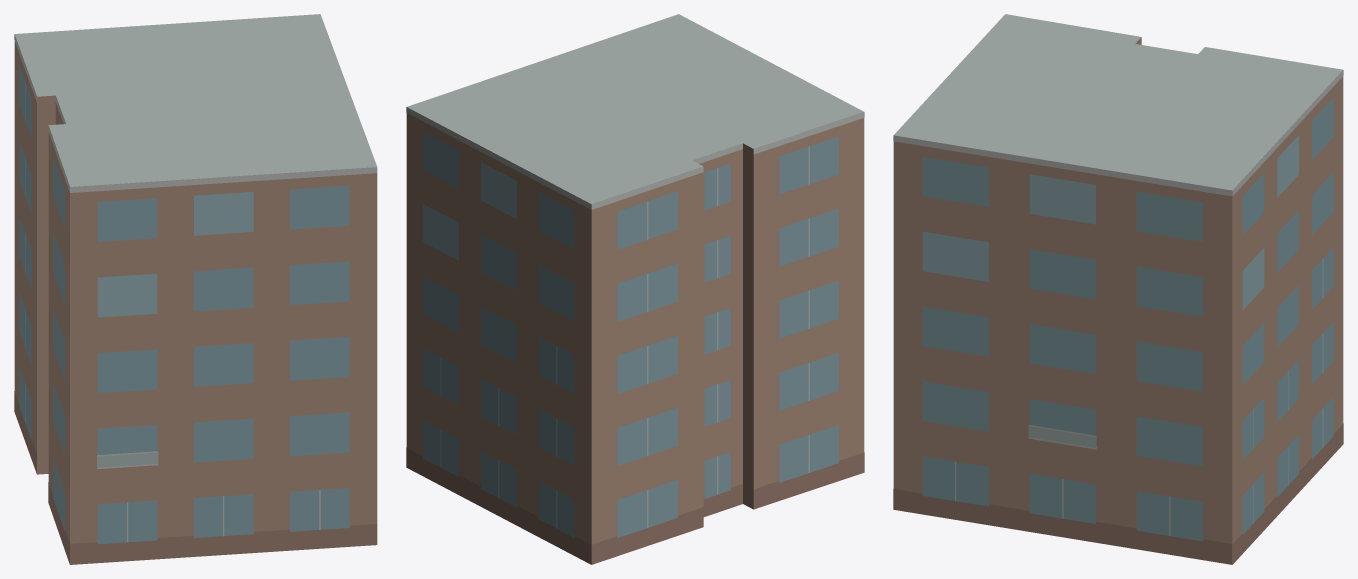
File: survey-upis-32940145.glb
The picture shows the model from 3 angles, left to right: view 1: azimuth 30°, elevation 25°; view 2: azimuth 150°, elevation 25°; view 3: azimuth 270°, elevation 25°; orthographic projection. The views are drawn at different scales.
Visible parts, largest first — view 1: survey-upis-32940145.tmp; view 2: survey-upis-32940145.tmp; view 3: survey-upis-32940145.tmp.
Boxes of the visible parts, x1,y1,x2,y2 form: survey-upis-32940145.tmp: (14,14,377,564); survey-upis-32940145.tmp: (406,14,864,564); survey-upis-32940145.tmp: (893,14,1343,564).
Bounding box in the file's own units: 15.48 × 15.3 × 16.68.
